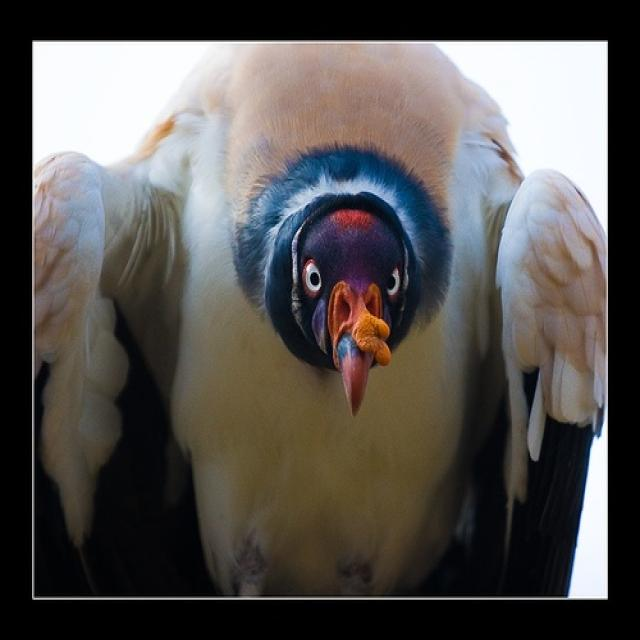bird: (32, 40, 607, 598)
